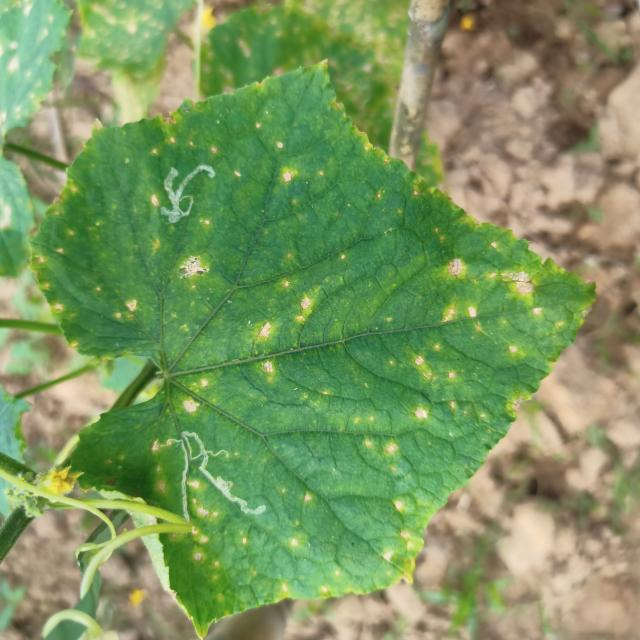disease_cucumber: (42, 227, 338, 434), (375, 227, 561, 507), (146, 463, 437, 616), (165, 119, 303, 188)
